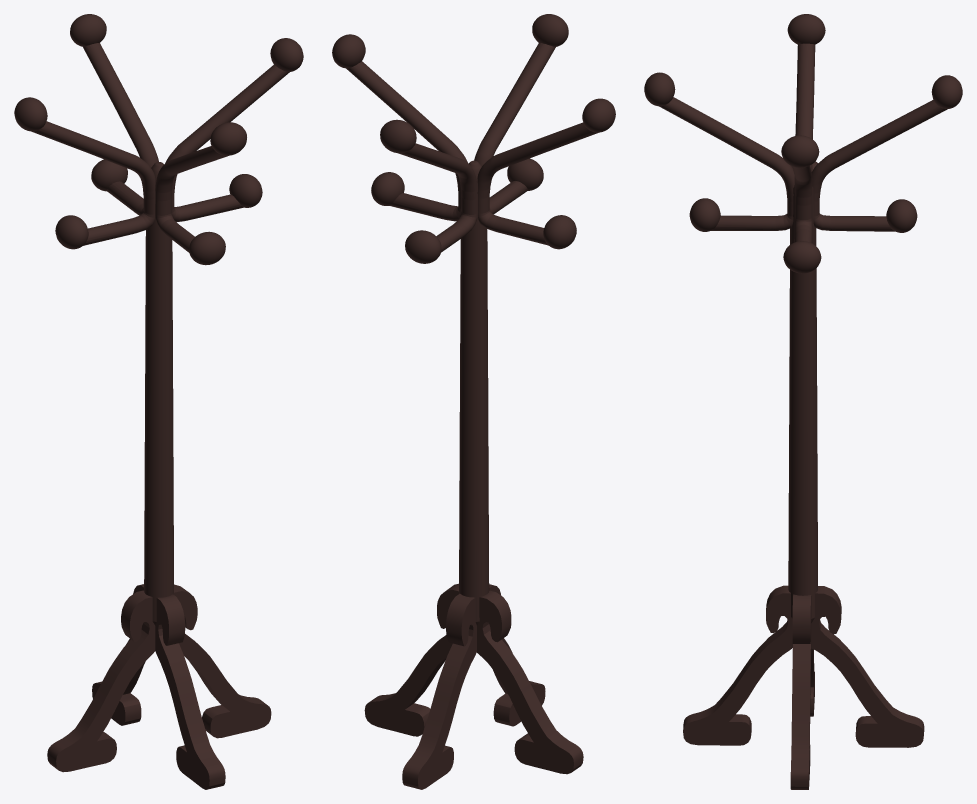
Rendered from PorteManteau2_3.fbx.
3 renders of one model, left to right at view 1: azimuth 30°, elevation 25°; view 2: azimuth 150°, elevation 25°; view 3: azimuth 270°, elevation 25°, orthographic.
Visible parts, largest first — view 1: pCylinder88, polySurface182, polySurface179, pSphere38, pSphere39, pSphere37, pSphere36, polySurface181, polySurface180; view 2: pCylinder88, polySurface182, polySurface180, pSphere39, pSphere38, pSphere36, pSphere37, polySurface181, polySurface179; view 3: pCylinder88, polySurface180, polySurface179, pSphere37, pSphere36, polySurface181, pSphere39, pSphere38.
Part boxes in pixels (bbox=[...]): pCylinder88: bbox=[144, 162, 173, 625]; polySurface182: bbox=[47, 590, 155, 772]; polySurface179: bbox=[155, 594, 225, 789]; pSphere38: bbox=[14, 97, 155, 249]; pSphere39: bbox=[165, 38, 303, 222]; pSphere37: bbox=[70, 14, 158, 215]; pSphere36: bbox=[155, 122, 246, 265]; polySurface181: bbox=[173, 584, 271, 738]; polySurface180: bbox=[92, 584, 145, 725]; pCylinder88: bbox=[459, 160, 489, 625]; polySurface182: bbox=[476, 590, 583, 774]; polySurface180: bbox=[402, 593, 476, 789]; pSphere39: bbox=[332, 34, 467, 221]; pSphere38: bbox=[477, 98, 615, 249]; pSphere36: bbox=[474, 14, 568, 214]; pSphere37: bbox=[380, 119, 477, 263]; polySurface181: bbox=[364, 583, 458, 736]; polySurface179: bbox=[489, 584, 545, 726]; pCylinder88: bbox=[788, 185, 817, 622]; polySurface180: bbox=[811, 586, 924, 747]; polySurface179: bbox=[683, 585, 792, 745]; pSphere37: bbox=[811, 75, 962, 232]; pSphere36: bbox=[644, 72, 794, 231]; polySurface181: bbox=[790, 594, 811, 789]; pSphere39: bbox=[781, 135, 821, 273]; pSphere38: bbox=[787, 14, 825, 171].
Bounding box in the file's own units: 28.6 × 66.14 × 28.62.
